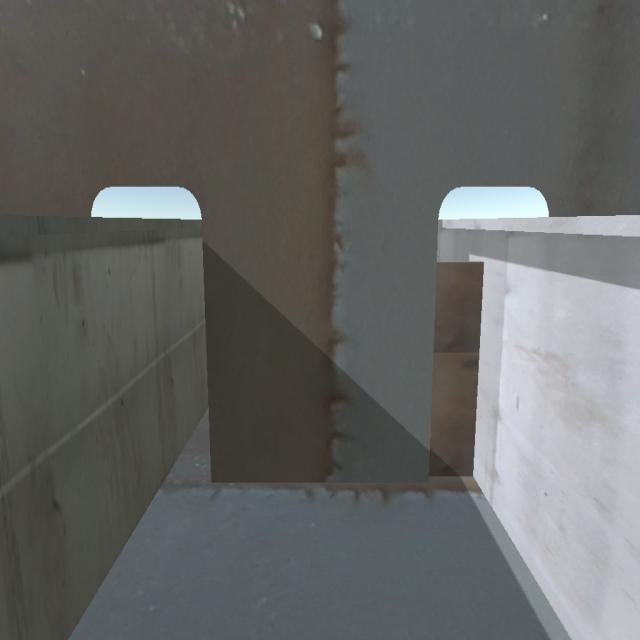fillet_yong_jeop_jang: (204, 474, 433, 490)
longi_yong_jeop_jang: (472, 257, 483, 483)
plate_behind: (437, 262, 476, 482)
